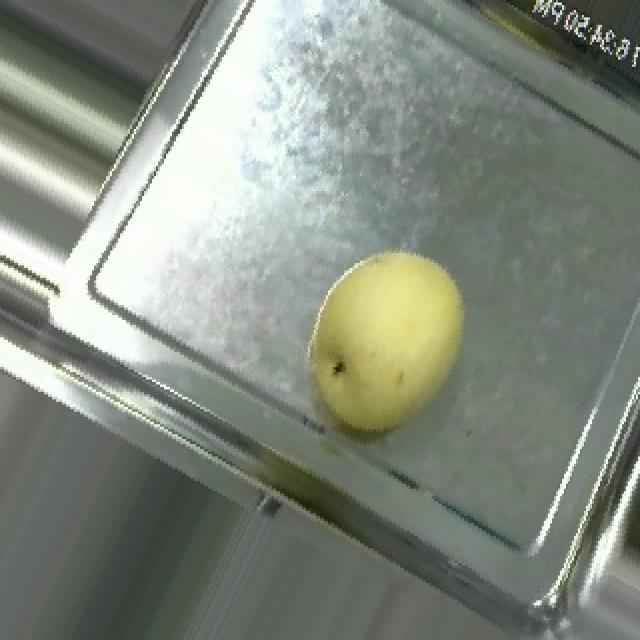Fruit: (272, 224, 498, 466)
